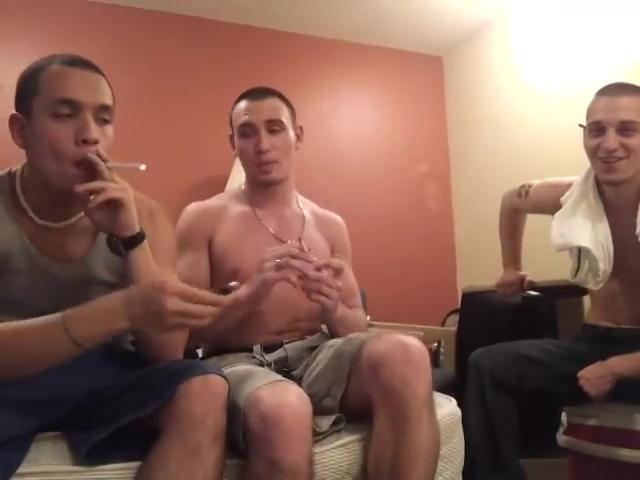cigarette: (104, 157, 148, 173), (298, 235, 311, 259)
